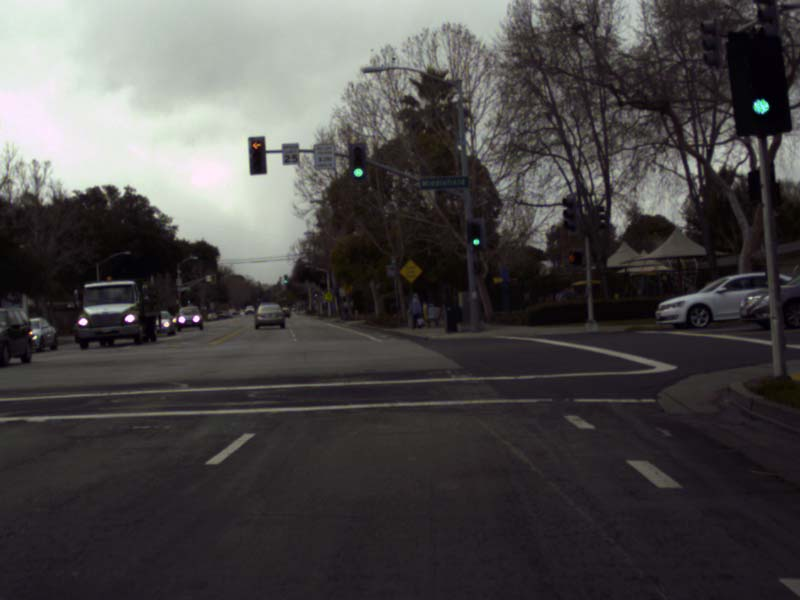Green: (738, 34, 780, 129), (348, 143, 367, 178), (466, 218, 486, 250), (283, 274, 288, 283), (315, 291, 318, 300)
Red: (247, 137, 266, 173)
